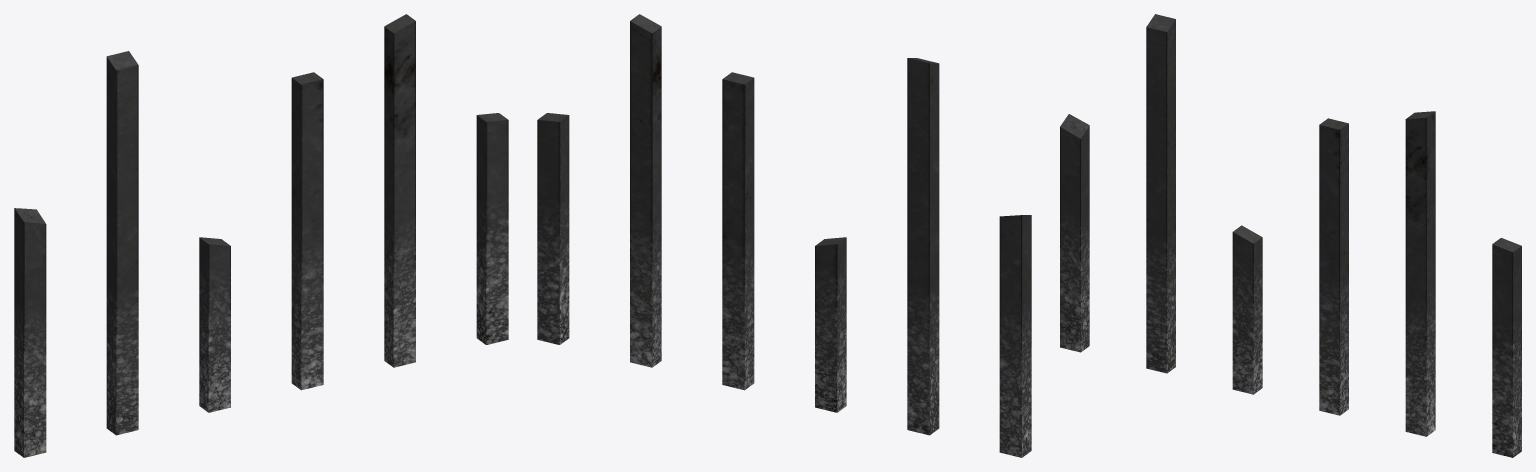
File: Fence4.fbx
3 renders of one model, left to right at view 1: azimuth 30°, elevation 25°; view 2: azimuth 150°, elevation 25°; view 3: azimuth 330°, elevation 25°, orthographic. The views are drawn at different scales.
Parts seen in each view (by area): view 1: Cube.033; view 2: Cube.033; view 3: Cube.033.
Boxes of the visible parts, x1,y1,x2,y2 form: Cube.033: (14,14,508,457); Cube.033: (537,14,1031,457); Cube.033: (1060,14,1521,457).
Size of the model in its own units: 524 by 384 by 17.95.
